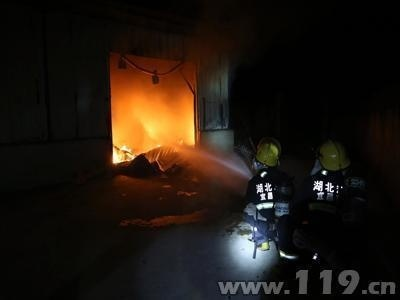fire: (110, 95, 197, 167)
